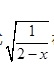division: (15, 40, 47, 48)
sqrt: (5, 18, 49, 62)
